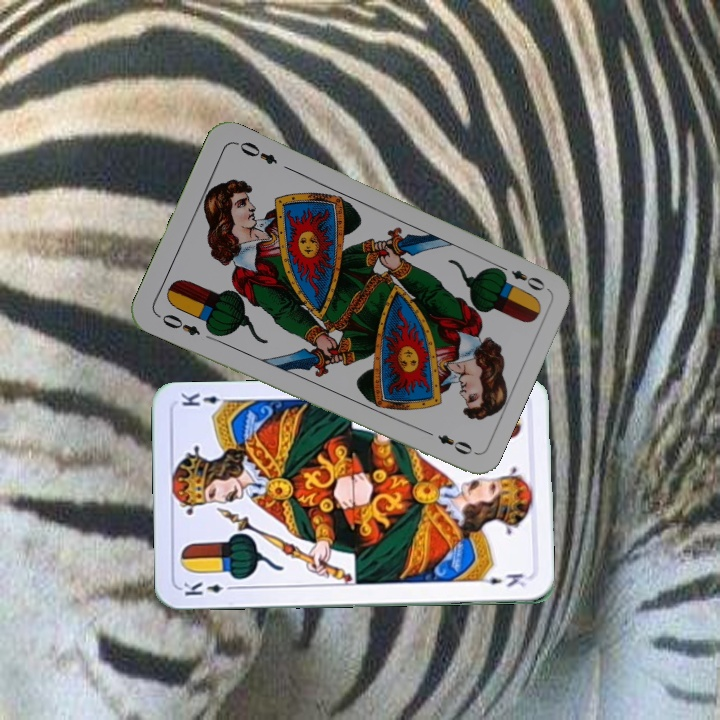EK: (179, 578, 238, 599)
EO: (493, 260, 548, 294), (153, 310, 203, 339)
